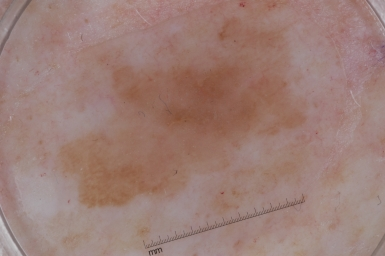seborrheic keratosis: (55, 15, 265, 204)
